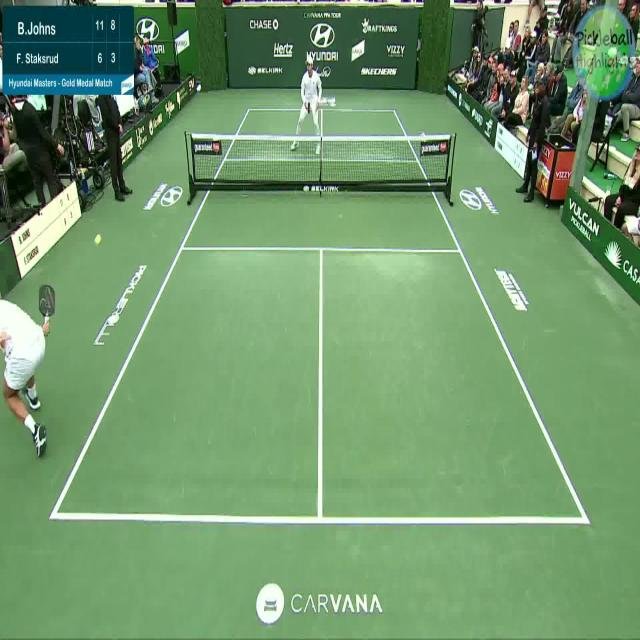ball: (92, 226, 104, 249)
